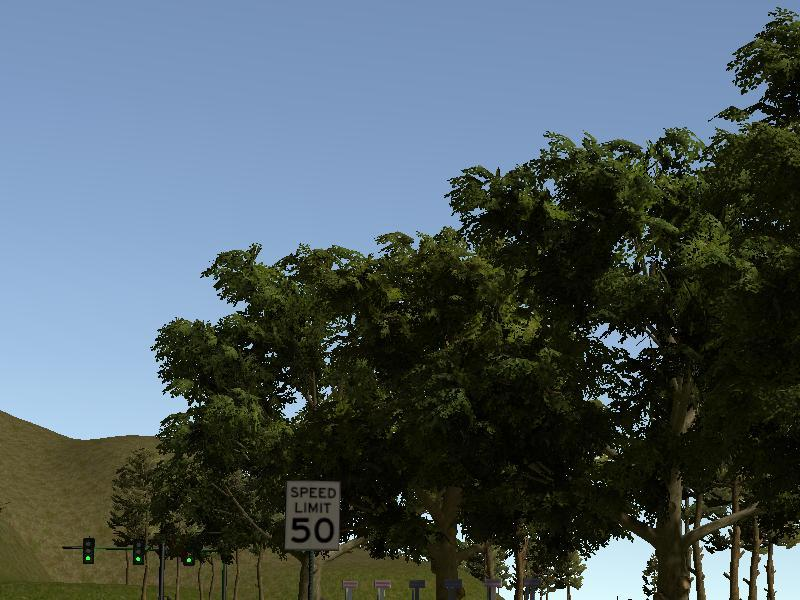Green: (132, 540, 145, 564), (83, 536, 94, 563)
